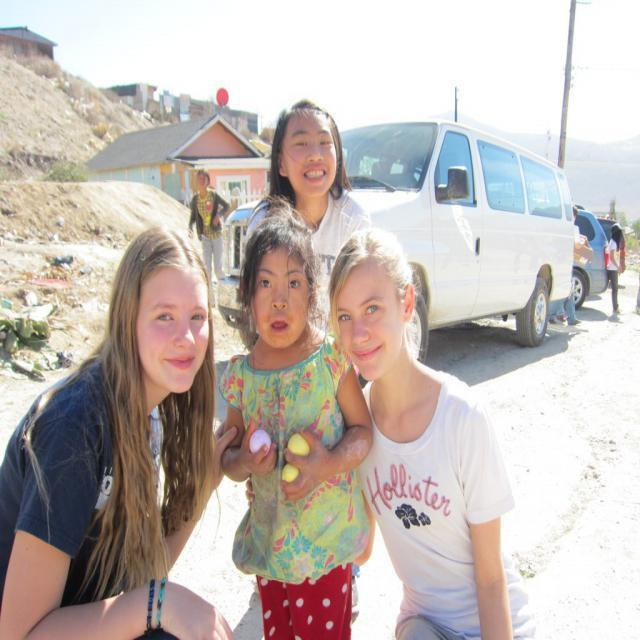closed-mouth: (352, 346, 382, 362), (165, 355, 194, 370)
